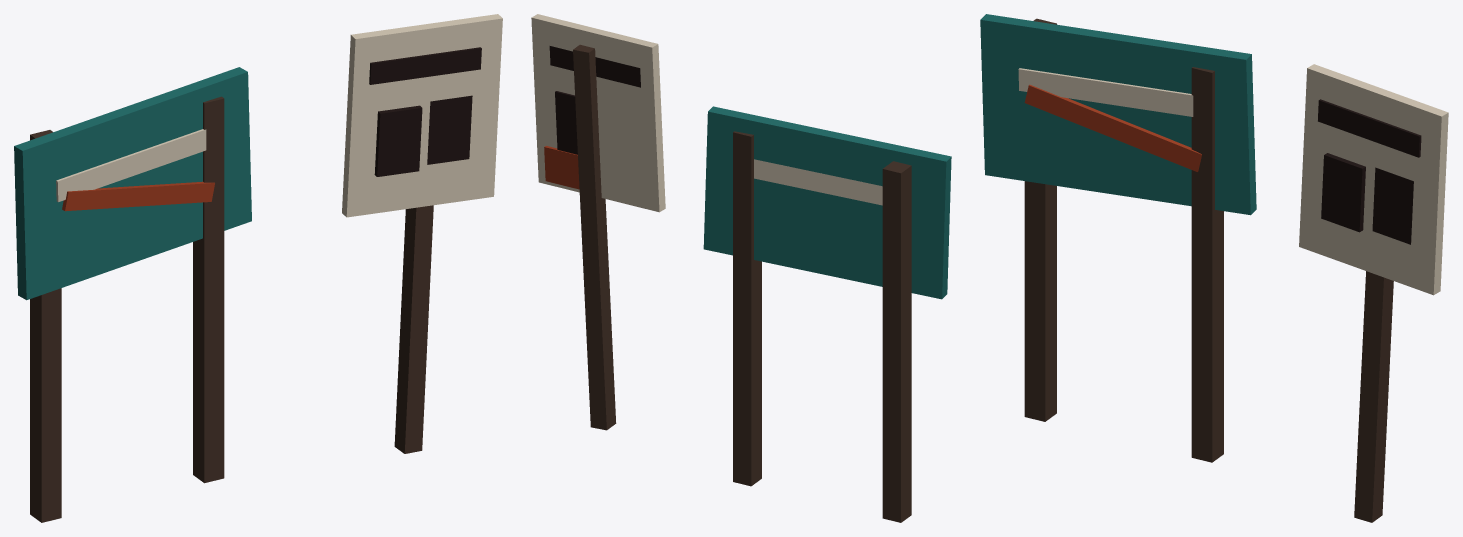
The model's file is prop_road_sign.glb.
3 views of the same model, side by side, from view 1: azimuth 30°, elevation 25°; view 2: azimuth 150°, elevation 25°; view 3: azimuth 330°, elevation 25° (orthographic). The views are drawn at different scales.
Visible parts, largest first — view 1: hwy_board, speed_board, hwy_post_r, hwy_post_l, speed_post, hwy_arrow_bar, hwy_slash_red, speed_num_6, speed_num_0, speed_hdr_bar; view 2: hwy_board, speed_board, hwy_post_l, speed_post, hwy_post_r, hwy_arrow_bar, speed_hdr_bar, speed_num_0, speed_rust; view 3: hwy_board, speed_board, hwy_post_r, hwy_post_l, speed_post, hwy_arrow_bar, hwy_slash_red, speed_num_6, speed_num_0, speed_hdr_bar.
Part boxes in pixels (left/top/right/bottom): hwy_board: left=14, top=67, right=251, bottom=300; speed_board: left=342, top=14, right=502, bottom=217; hwy_post_r: left=193, top=96, right=224, bottom=483; hwy_post_l: left=30, top=130, right=61, bottom=522; speed_post: left=394, top=205, right=433, bottom=453; hwy_arrow_bar: left=56, top=129, right=206, bottom=202; hwy_slash_red: left=62, top=181, right=214, bottom=211; speed_num_6: left=374, top=105, right=422, bottom=176; speed_num_0: left=427, top=95, right=472, bottom=164; speed_hdr_bar: left=369, top=47, right=481, bottom=84; hwy_board: left=703, top=106, right=951, bottom=299; speed_board: left=531, top=14, right=665, bottom=212; hwy_post_l: left=882, top=161, right=911, bottom=522; speed_post: left=573, top=44, right=616, bottom=430; hwy_post_r: left=733, top=131, right=761, bottom=486; hwy_arrow_bar: left=754, top=159, right=882, bottom=205; speed_hdr_bar: left=549, top=46, right=640, bottom=87; speed_num_0: left=555, top=91, right=577, bottom=154; speed_rust: left=544, top=146, right=579, bottom=189; hwy_board: left=980, top=14, right=1256, bottom=215; speed_board: left=1299, top=64, right=1448, bottom=295; hwy_post_r: left=1191, top=67, right=1223, bottom=462; hwy_post_l: left=1024, top=18, right=1056, bottom=421; speed_post: left=1354, top=271, right=1393, bottom=522; hwy_arrow_bar: left=1018, top=68, right=1193, bottom=116; hwy_slash_red: left=1024, top=84, right=1201, bottom=171; speed_num_6: left=1321, top=153, right=1365, bottom=232; speed_num_0: left=1372, top=167, right=1413, bottom=244; speed_hdr_bar: left=1318, top=99, right=1421, bottom=157.
Bounding box in the file's own units: 3.73 × 3.25 × 0.5504.
